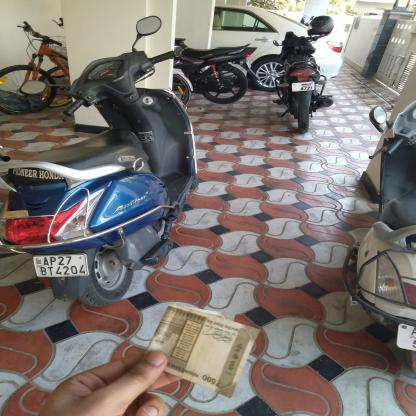New500Back: (146, 308, 245, 390)
